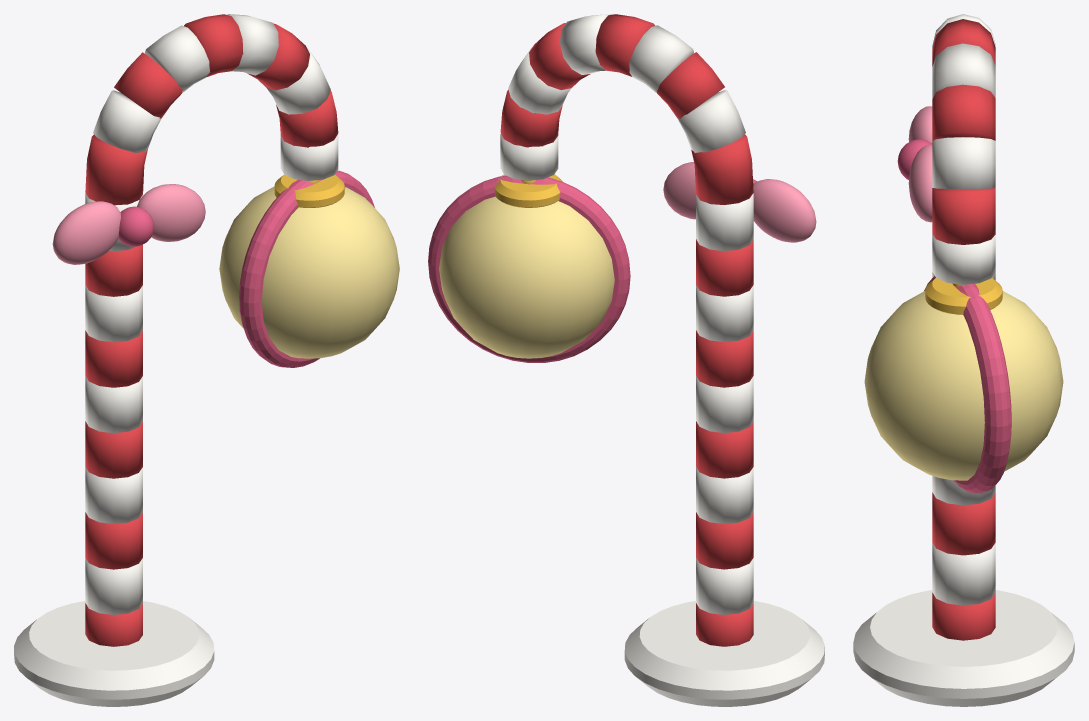
File: candy_lamp.fbx
3 views of the same model, side by side, from view 1: azimuth 30°, elevation 25°; view 2: azimuth 150°, elevation 25°; view 3: azimuth 270°, elevation 25° (orthographic). The views are drawn at different scales.
Visible parts, largest first — view 1: candy_lamp_White, candy_lamp_Red, candy_lamp_Glow, candy_lamp_PinkDark, candy_lamp_Pink, candy_lamp_Gold; view 2: candy_lamp_White, candy_lamp_Red, candy_lamp_Glow, candy_lamp_PinkDark, candy_lamp_Pink, candy_lamp_Gold; view 3: candy_lamp_White, candy_lamp_Glow, candy_lamp_Red, candy_lamp_PinkDark, candy_lamp_Pink, candy_lamp_Gold.
Boxes of the visible parts, bbox=[...] form: candy_lamp_White: bbox=[14, 14, 338, 706]; candy_lamp_Red: bbox=[85, 14, 338, 646]; candy_lamp_Glow: bbox=[219, 186, 399, 358]; candy_lamp_PinkDark: bbox=[118, 170, 374, 367]; candy_lamp_Pink: bbox=[52, 184, 205, 264]; candy_lamp_Gold: bbox=[274, 174, 344, 207]; candy_lamp_White: bbox=[500, 14, 824, 706]; candy_lamp_Red: bbox=[500, 14, 753, 646]; candy_lamp_Glow: bbox=[439, 196, 614, 358]; candy_lamp_PinkDark: bbox=[428, 175, 756, 362]; candy_lamp_Pink: bbox=[663, 162, 816, 242]; candy_lamp_Gold: bbox=[494, 174, 562, 207]; candy_lamp_White: bbox=[853, 14, 1074, 706]; candy_lamp_Glow: bbox=[864, 291, 1063, 480]; candy_lamp_Red: bbox=[932, 19, 995, 640]; candy_lamp_PinkDark: bbox=[897, 139, 1011, 493]; candy_lamp_Pink: bbox=[908, 106, 932, 222]; candy_lamp_Gold: bbox=[925, 278, 1002, 314].
Size of the model in its own units: 16.88 by 27.65 by 8.
